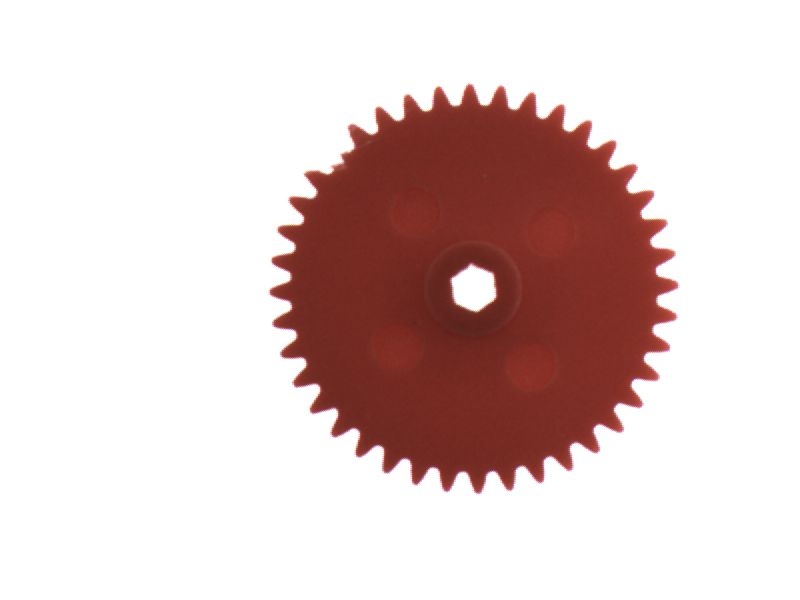defect_lack: (305, 122, 367, 184)
